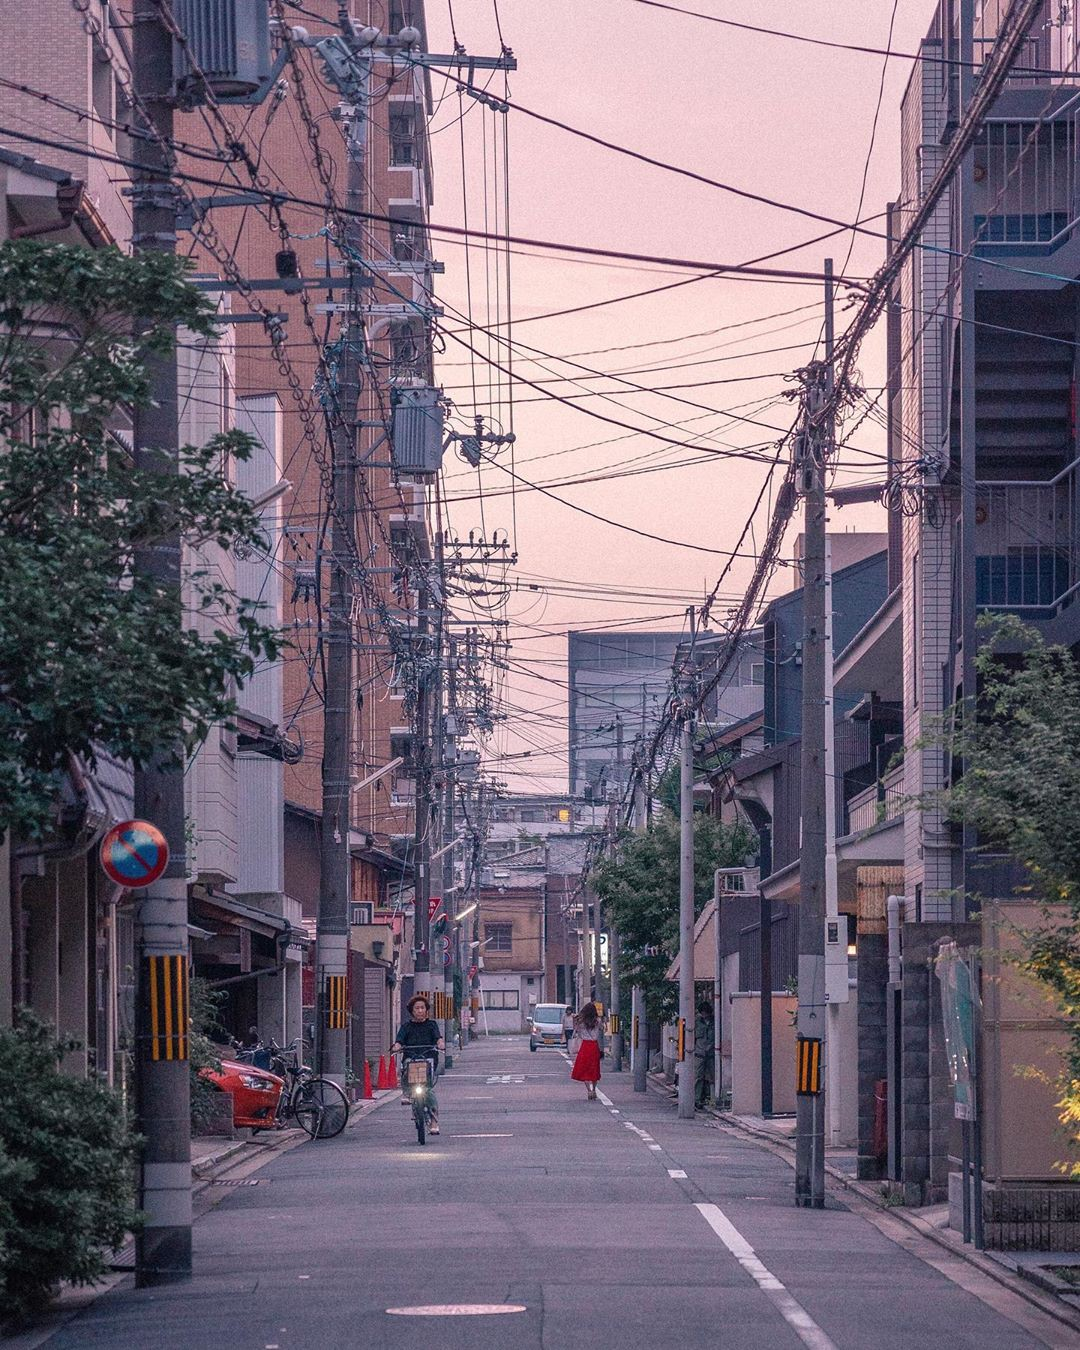people: (387, 995, 445, 1112), (568, 1005, 604, 1103)
